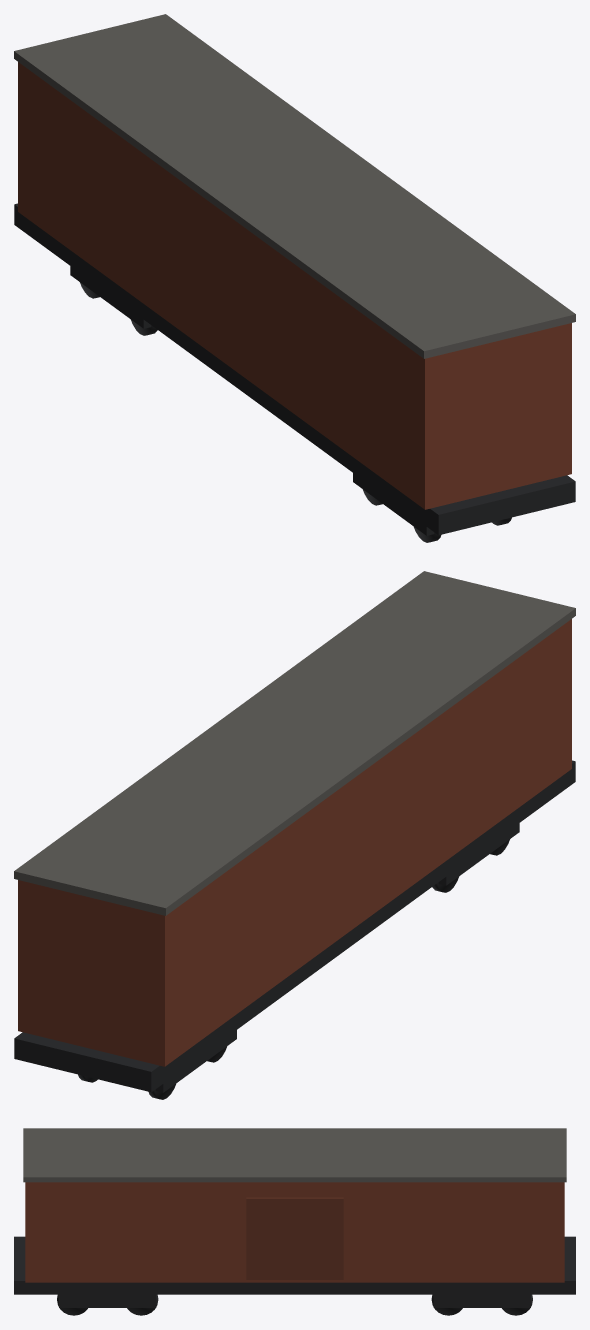
The model's file is RailCar.fbx.
The picture shows the model from 3 angles, top to bottom: view 1: azimuth 30°, elevation 25°; view 2: azimuth 150°, elevation 25°; view 3: azimuth 270°, elevation 25°; orthographic projection. The views are drawn at different scales.
Visible parts, largest first — view 1: Box, Roof, Frame, Bogie-11, Bogie-1-1; view 2: Box, Roof, Frame, Bogie-1-1, Bogie-11; view 3: Box, Roof, Frame, Door, Bogie1-1, Bogie11.
Boxes of the visible parts, x1,y1,x2,y2 form: Box: (18, 62, 571, 509); Roof: (14, 14, 575, 358); Frame: (14, 203, 575, 535); Bogie-11: (70, 266, 151, 328); Bogie-1-1: (353, 473, 434, 535); Box: (18, 619, 571, 1066); Roof: (14, 571, 575, 915); Frame: (14, 760, 575, 1092); Bogie-1-1: (438, 823, 519, 885); Bogie-11: (155, 1030, 236, 1092); Box: (25, 1182, 564, 1282); Roof: (23, 1128, 566, 1182); Frame: (14, 1236, 575, 1294); Door: (246, 1197, 343, 1279); Bogie1-1: (59, 1294, 156, 1307); Bogie11: (433, 1294, 530, 1307).
Bounding box in the file's own units: 310 × 1500 × 442.
